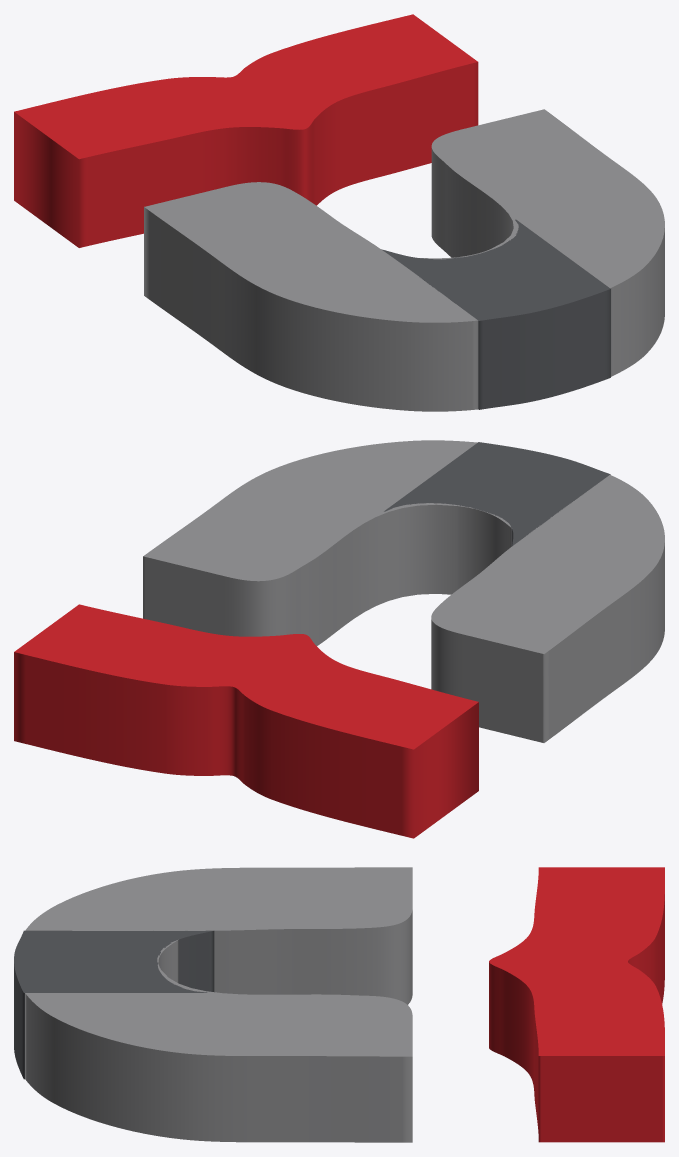
The model's file is telyu.glb.
The picture shows the model from 3 angles, top to bottom: view 1: azimuth 30°, elevation 25°; view 2: azimuth 150°, elevation 25°; view 3: azimuth 270°, elevation 25°; orthographic projection. The views are drawn at different scales.
Parts seen in each view (by area): view 1: Curve.002, Curve.001, Curve.004; view 2: Curve.002, Curve.001, Curve.004; view 3: Curve.002, Curve.001, Curve.004.
Part boxes in pixels (box(x1,y1,x2,y2)): Curve.002: box(144, 109, 664, 411); Curve.001: box(14, 14, 478, 247); Curve.004: box(381, 219, 610, 409); Curve.002: box(143, 440, 664, 742); Curve.001: box(14, 604, 478, 838); Curve.004: box(384, 442, 610, 546); Curve.002: box(25, 867, 412, 1142); Curve.001: box(489, 867, 664, 1142); Curve.004: box(14, 930, 214, 1079).
Bounding box in the file's own units: 1.84 × 0.3914 × 2.68.
